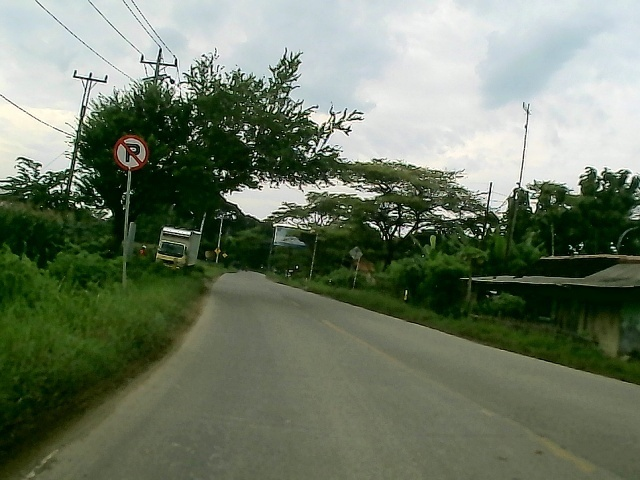Dilarang parkir: (110, 132, 151, 175)
